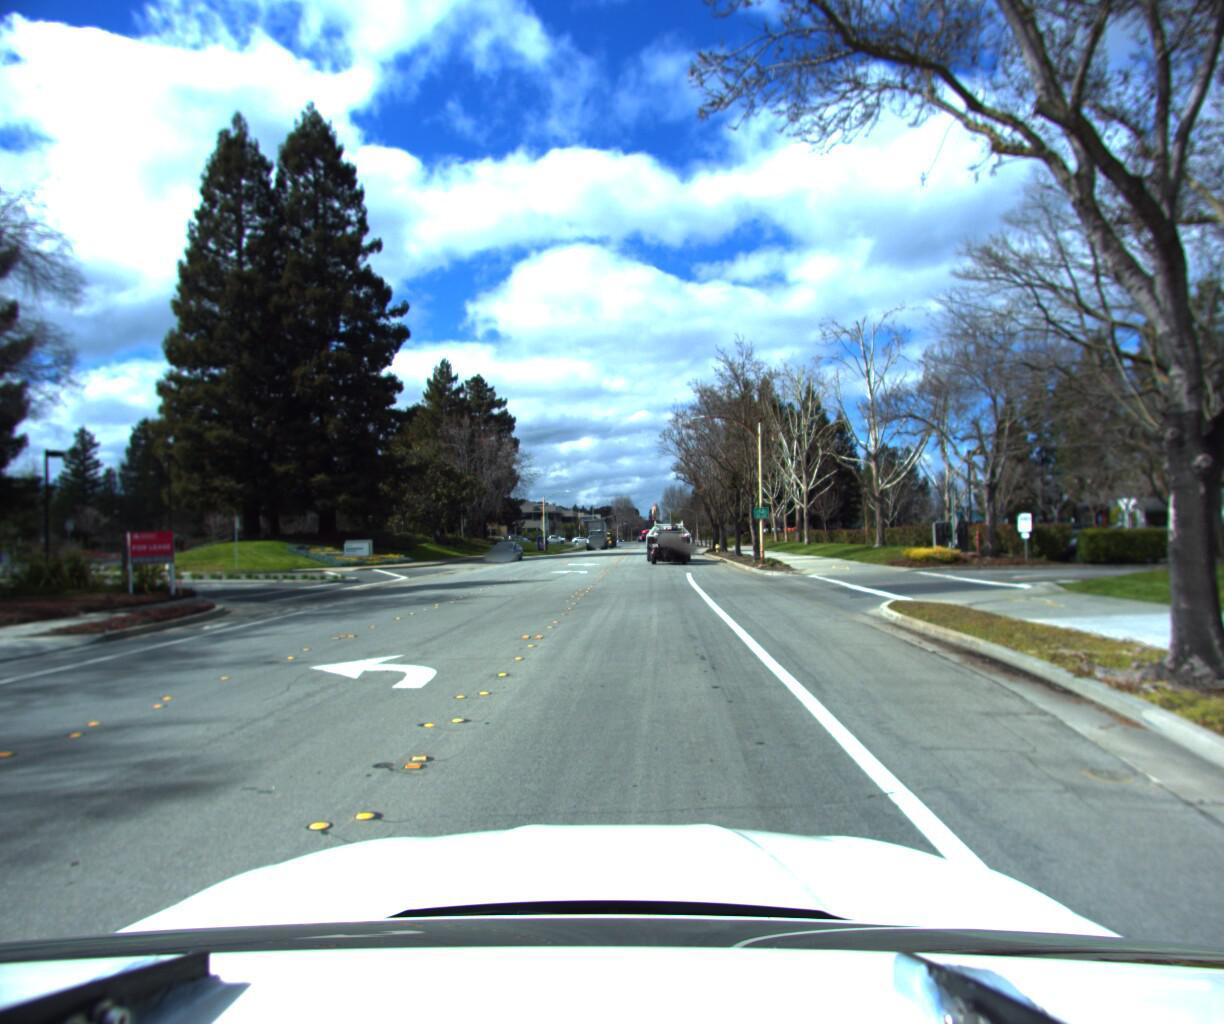car: (486, 542, 524, 566)
truck: (633, 517, 691, 568)
